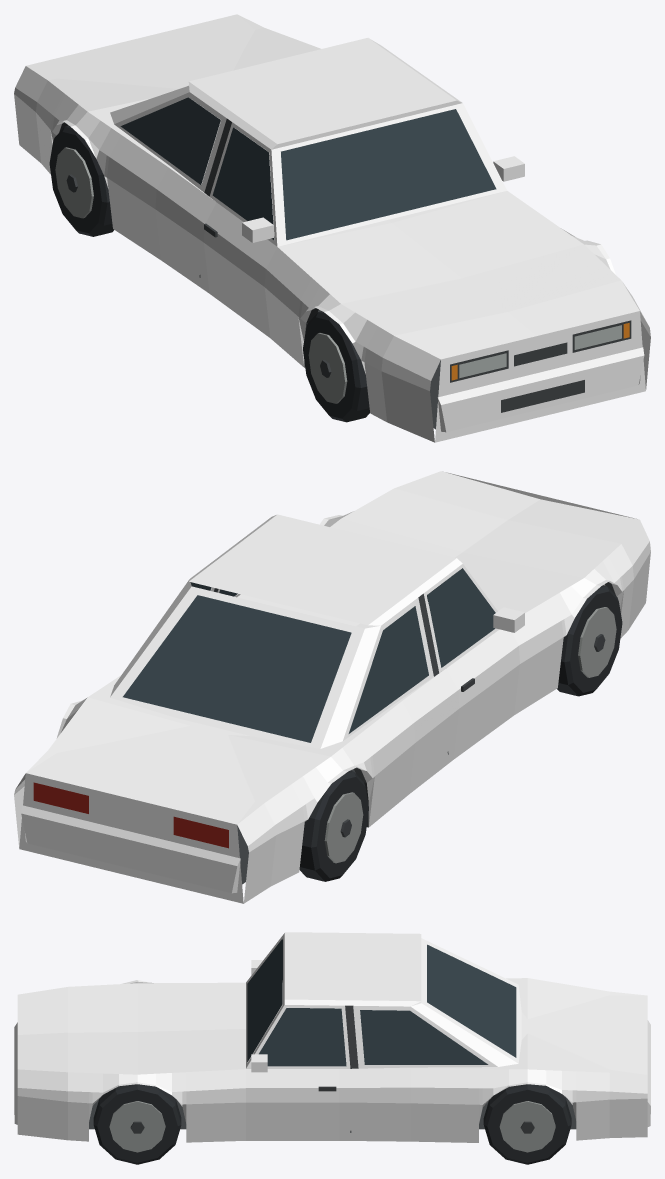
Rendered from bancroft_sidewinder_gt.glb.
The picture shows the model from 3 angles, top to bottom: view 1: azimuth 30°, elevation 25°; view 2: azimuth 150°, elevation 25°; view 3: azimuth 270°, elevation 25°; orthographic projection. The views are drawn at different scales.
Visible parts, largest first — view 1: bancroft_sidewinder_gt; view 2: bancroft_sidewinder_gt; view 3: bancroft_sidewinder_gt.
Part boxes in pixels (x1=…): bancroft_sidewinder_gt: x1=14, y1=14, x2=650, y2=442; bancroft_sidewinder_gt: x1=14, y1=471, x2=650, y2=903; bancroft_sidewinder_gt: x1=14, y1=932, x2=650, y2=1164.
Bounding box in the file's own units: 1.82 × 1.22 × 4.7.
Materials: 8 (1 with a texture image).
